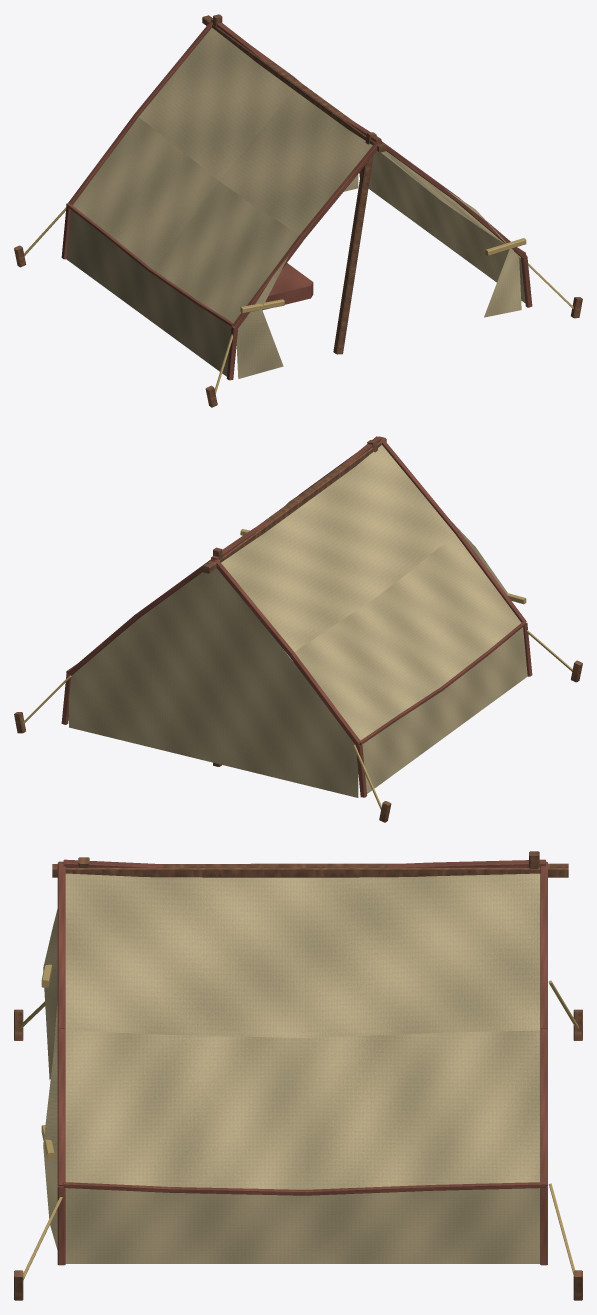
Rendered from large_tent.glb.
3 renders of one model, top to bottom at view 1: azimuth 30°, elevation 25°; view 2: azimuth 150°, elevation 25°; view 3: azimuth 270°, elevation 25°, orthographic. The views are drawn at different scales.
Visible parts, largest first — view 1: Large Tent; view 2: Large Tent; view 3: Large Tent.
Boxes of the visible parts, bbox=[...] form: Large Tent: bbox=[14, 14, 582, 407]; Large Tent: bbox=[14, 436, 582, 822]; Large Tent: bbox=[14, 851, 582, 1300].
Size of the model in its own units: 5.9 by 3.25 by 5.31.
4 materials, 3 textured.
